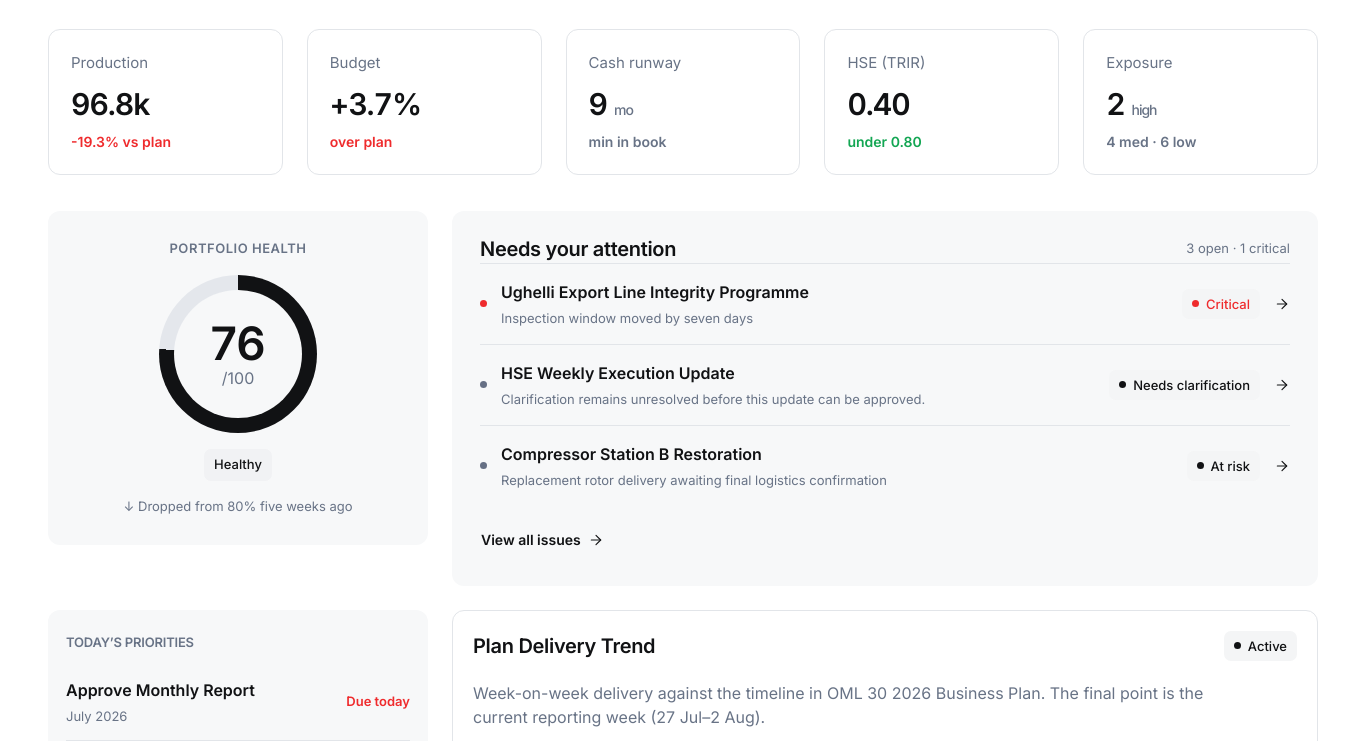
Test case: route architecture › opens a submission requiring attention in its full review route
(page scrolled)
Click the button "HSE Weekly Execution Update Clarification remains unresolved": [618, 373] box [480,344,1290,425]
(page scrolled)
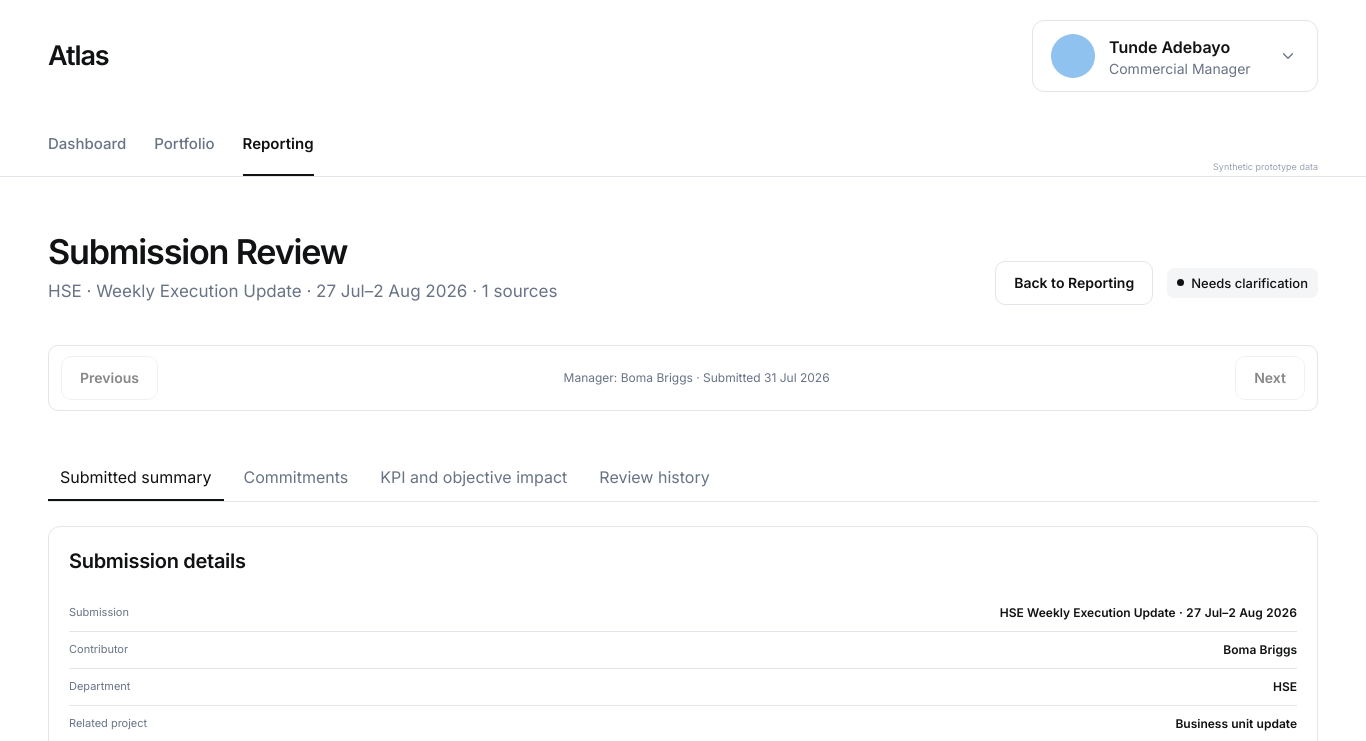
Check: the heading "Submission Review" is shown, box [48,231,347,272]
Check: the text "HSE · Weekly Execution Update · 27 Jul–2 Aug 2026" is shown, box [48,281,557,301]
